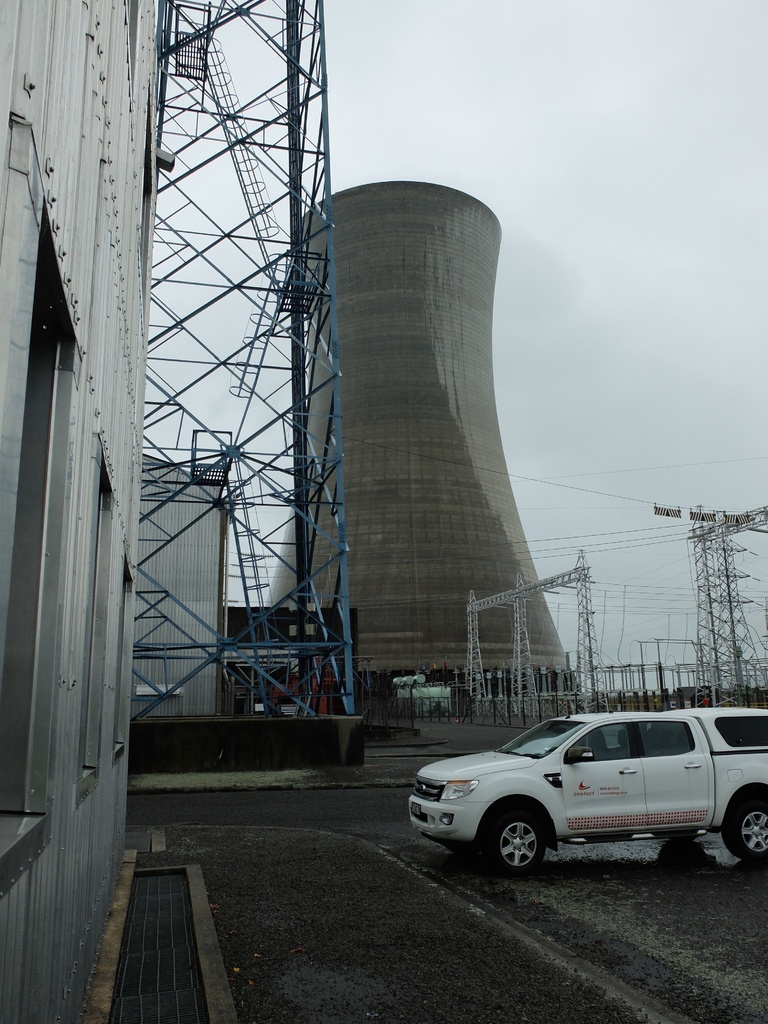cars: (410, 709, 767, 868)
